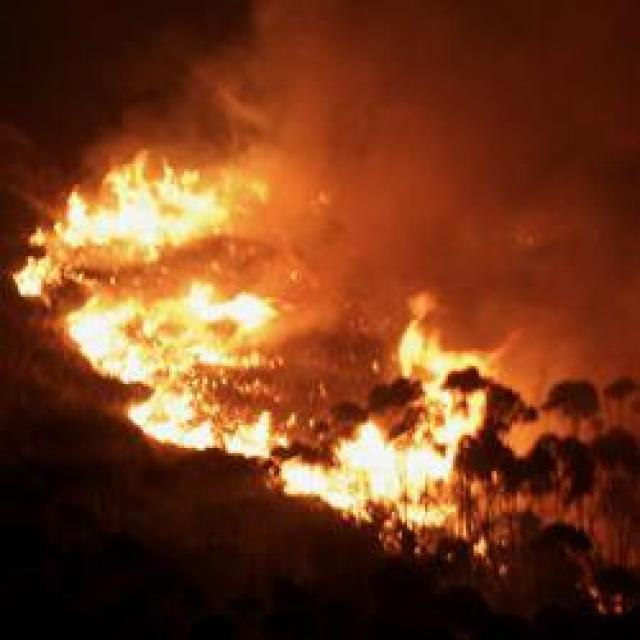Fire: (82, 290, 280, 370), (57, 160, 219, 252), (317, 426, 457, 516), (134, 389, 222, 446), (244, 416, 268, 460)
